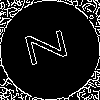Z: (25, 25, 77, 66)
